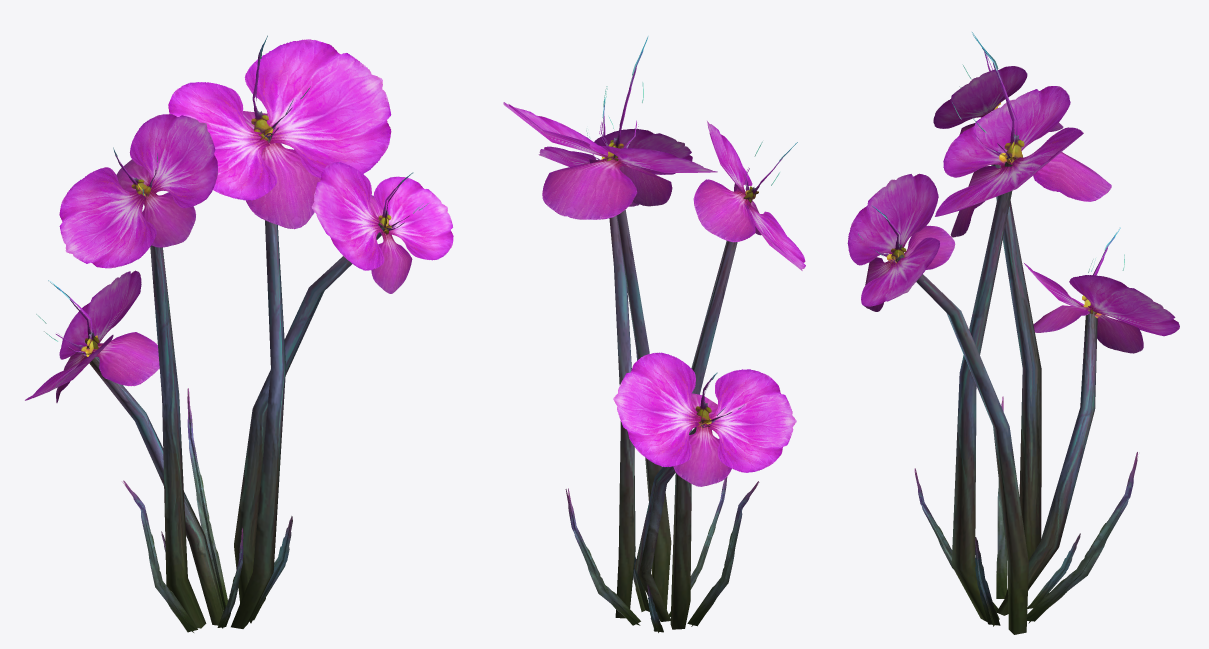
File: flower_01.FBX
3 renders of one model, left to right at view 1: azimuth 30°, elevation 25°; view 2: azimuth 150°, elevation 25°; view 3: azimuth 270°, elevation 25°, orthographic. The views are drawn at different scales.
Visible parts, largest first — view 1: flower_01; view 2: flower_01; view 3: flower_01.
Part boxes in pixels (bbox=[...]): flower_01: bbox=[25, 35, 453, 632]; flower_01: bbox=[503, 36, 805, 632]; flower_01: bbox=[847, 32, 1179, 634].
Size of the model in its own units: 354 by 586 by 302.
Materials: 1 (1 with a texture image).
